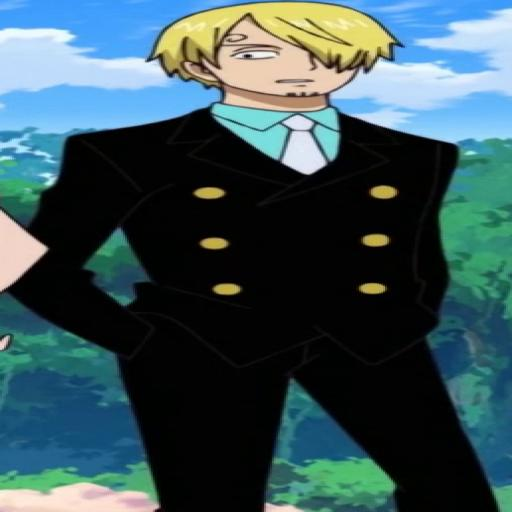sanji: (26, 0, 512, 512)
